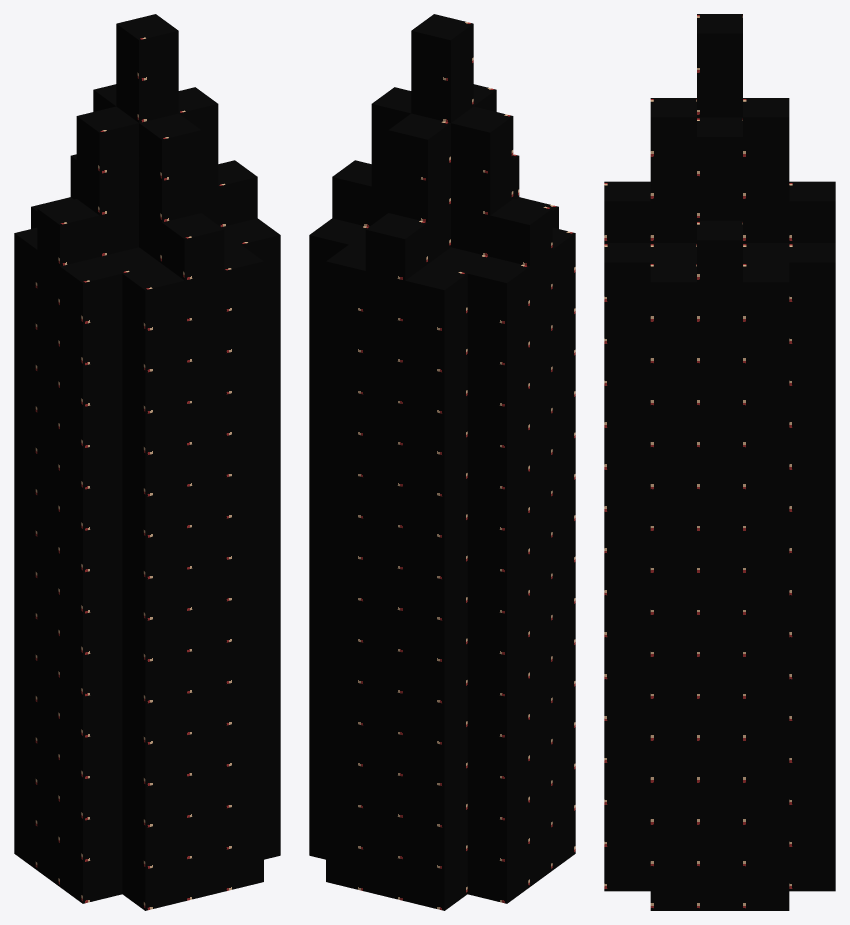
The model's file is matita_usv.gltf.
3 views of the same model, side by side, from view 1: azimuth 30°, elevation 25°; view 2: azimuth 150°, elevation 25°; view 3: azimuth 270°, elevation 25° (orthographic).
Parts seen in each view (by area): view 1: Layer.1, Layer.3, Layer.2; view 2: Layer.1, Layer.3, Layer.2; view 3: Layer.1, Layer.3, Layer.2.
Boxes of the visible parts, left/top/right/bottom form: Layer.1: left=14, top=197, right=280, bottom=910; Layer.3: left=37, top=14, right=257, bottom=280; Layer.2: left=99, top=186, right=218, bottom=263; Layer.1: left=309, top=197, right=575, bottom=910; Layer.3: left=332, top=14, right=552, bottom=280; Layer.2: left=371, top=186, right=490, bottom=263; Layer.1: left=604, top=243, right=835, bottom=910; Layer.3: left=604, top=14, right=835, bottom=282; Layer.2: left=650, top=201, right=789, bottom=242.
Size of the model in its own units: 5 by 20 by 5.
1 material, 1 textured.
